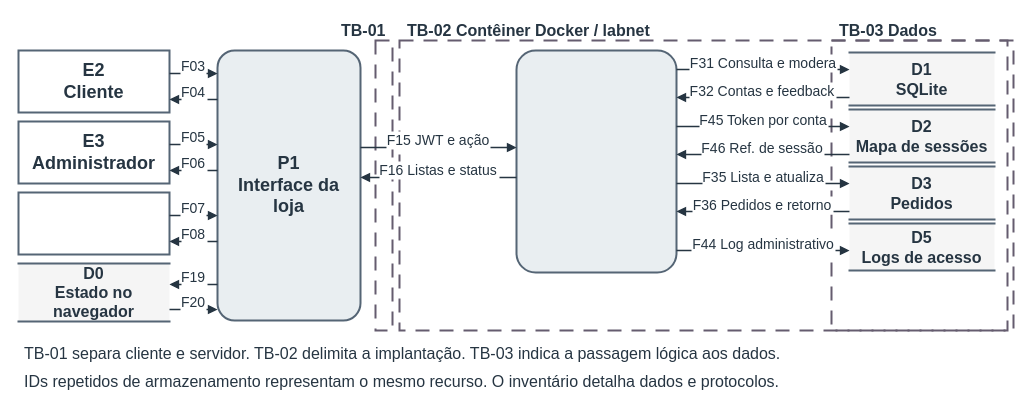
The diagram is 1031 pixels wide and 409 high, and some of its shapes have lost their labels. Here are the shapes that lost their labels. From the top down, the box of each, then its label:
(515, 49, 677, 273): P5 Funções privilegiadas
(17, 191, 170, 255): E4 Contabilidade
